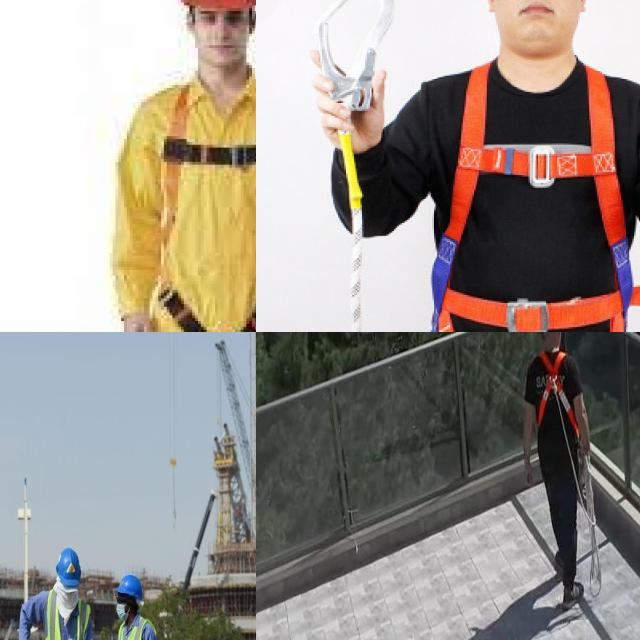Harness: (427, 63, 637, 332), (157, 79, 256, 332), (578, 455, 603, 598), (538, 351, 580, 436)
face_mask: (113, 595, 135, 625)
head_helmet: (52, 548, 82, 584), (113, 573, 144, 603)
person: (38, 547, 99, 640), (114, 576, 158, 640)
vest: (45, 595, 93, 640)
